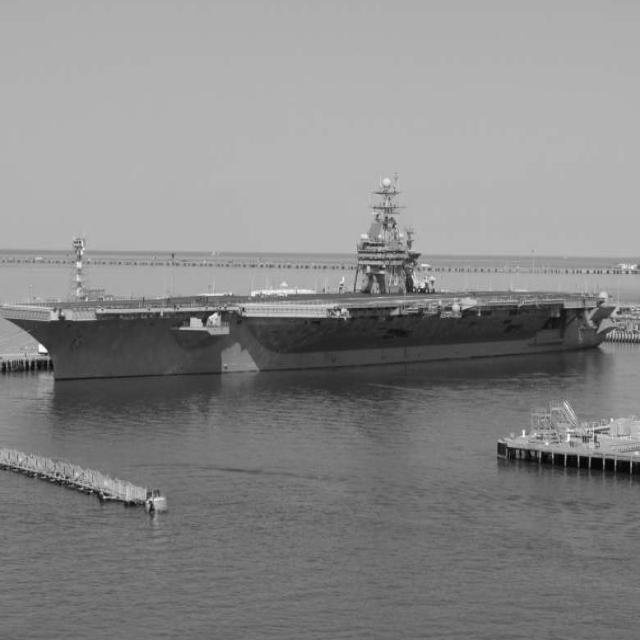Portanaves: (1, 155, 631, 384)
